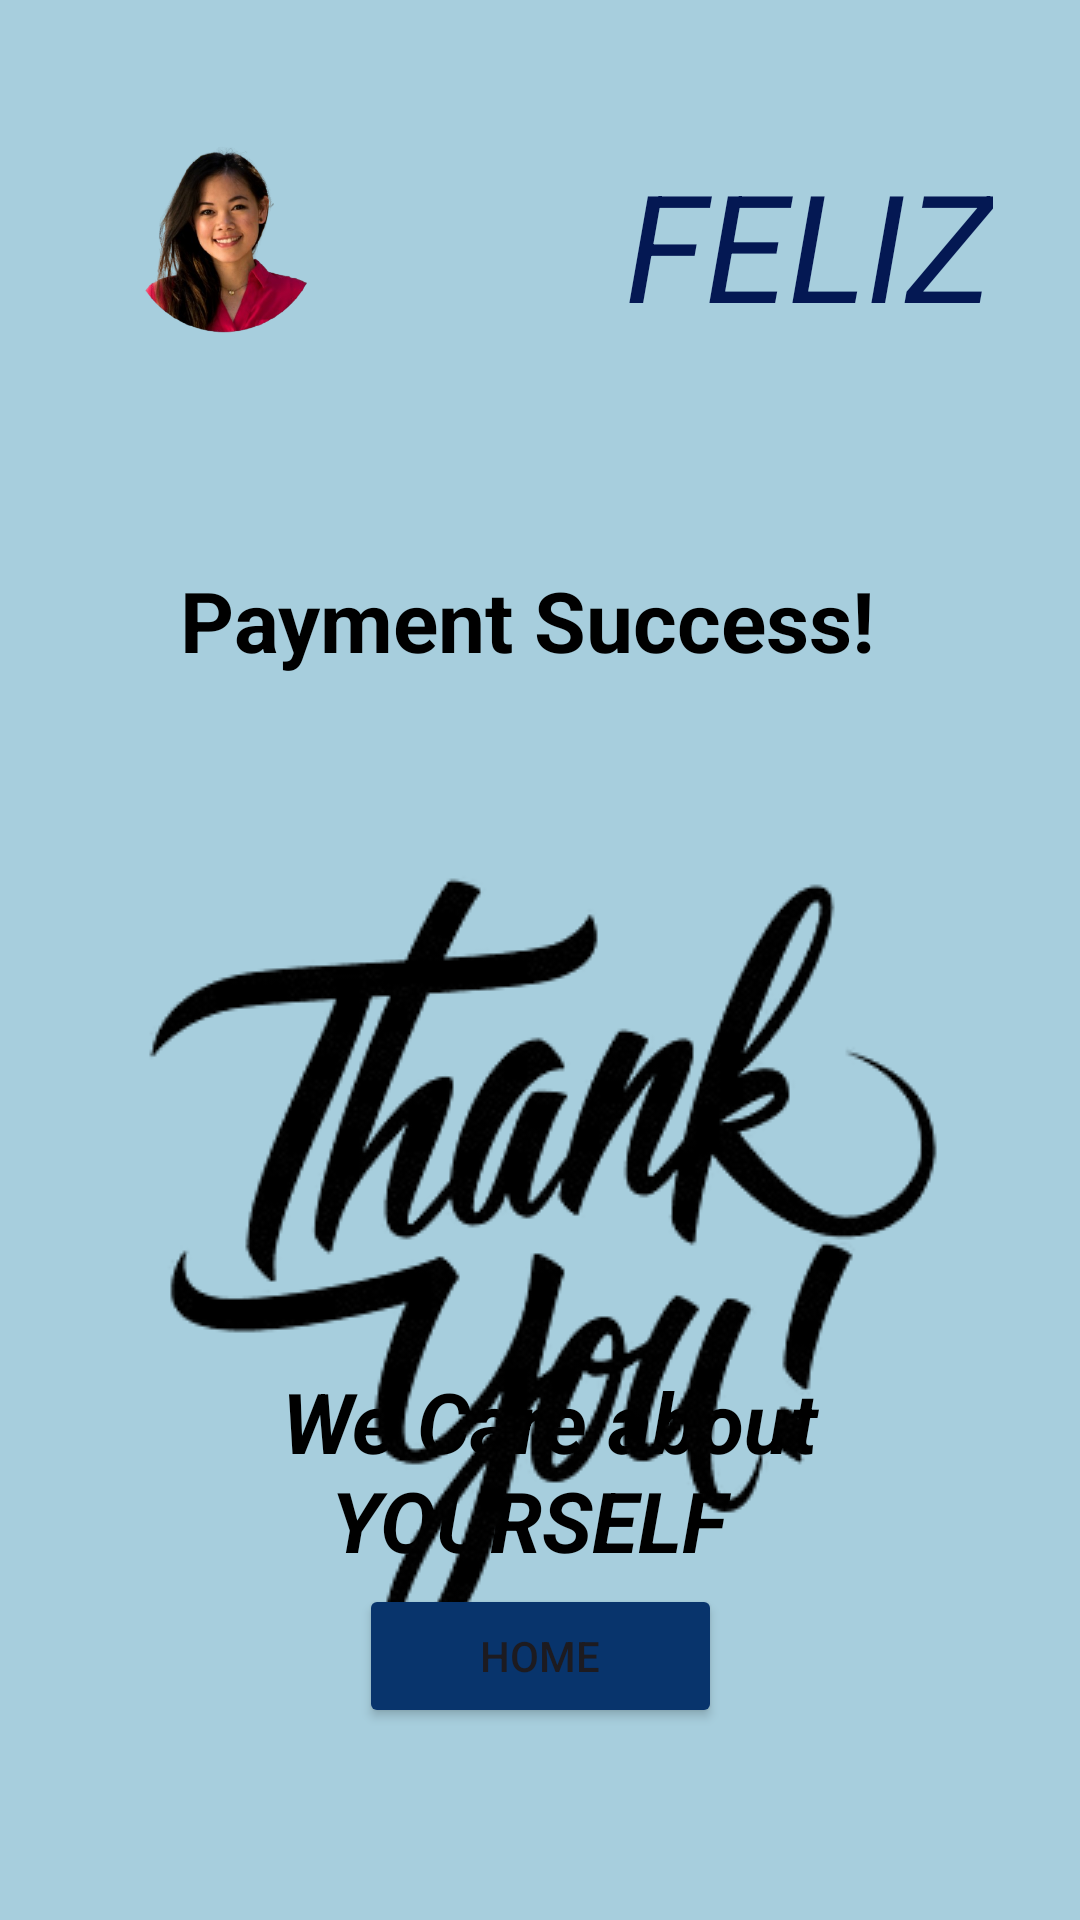

Icon bounding boxes for this 1080px×1920px phone screenshot, format (x1, y1, x2, y2):
profile: (145, 148, 307, 333)
